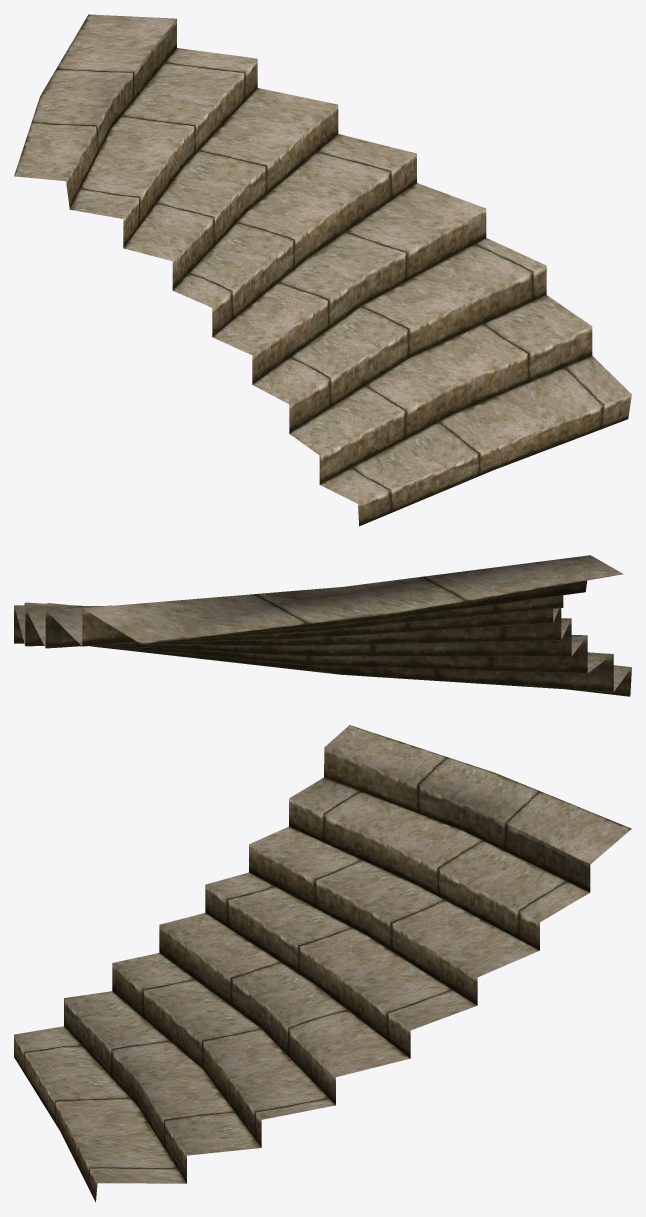
File: EKH_THRONE_PS_TH_EKH_STEP_03.fbx
3 renders of one model, top to bottom at view 1: azimuth 30°, elevation 25°; view 2: azimuth 150°, elevation 25°; view 3: azimuth 270°, elevation 25°, orthographic. The views are drawn at different scales.
Parts seen in each view (by area): view 1: EKH_THRONE_PS_TH_EKH_STEP_03; view 2: EKH_THRONE_PS_TH_EKH_STEP_03; view 3: EKH_THRONE_PS_TH_EKH_STEP_03.
Boxes of the visible parts, left/top/right/bottom form: EKH_THRONE_PS_TH_EKH_STEP_03: left=14, top=14, right=631, bottom=526; EKH_THRONE_PS_TH_EKH_STEP_03: left=14, top=555, right=631, bottom=696; EKH_THRONE_PS_TH_EKH_STEP_03: left=14, top=725, right=631, bottom=1202.
Bounding box in the file's own units: 48845 × 24915 × 55253.
1 material, 1 textured.
